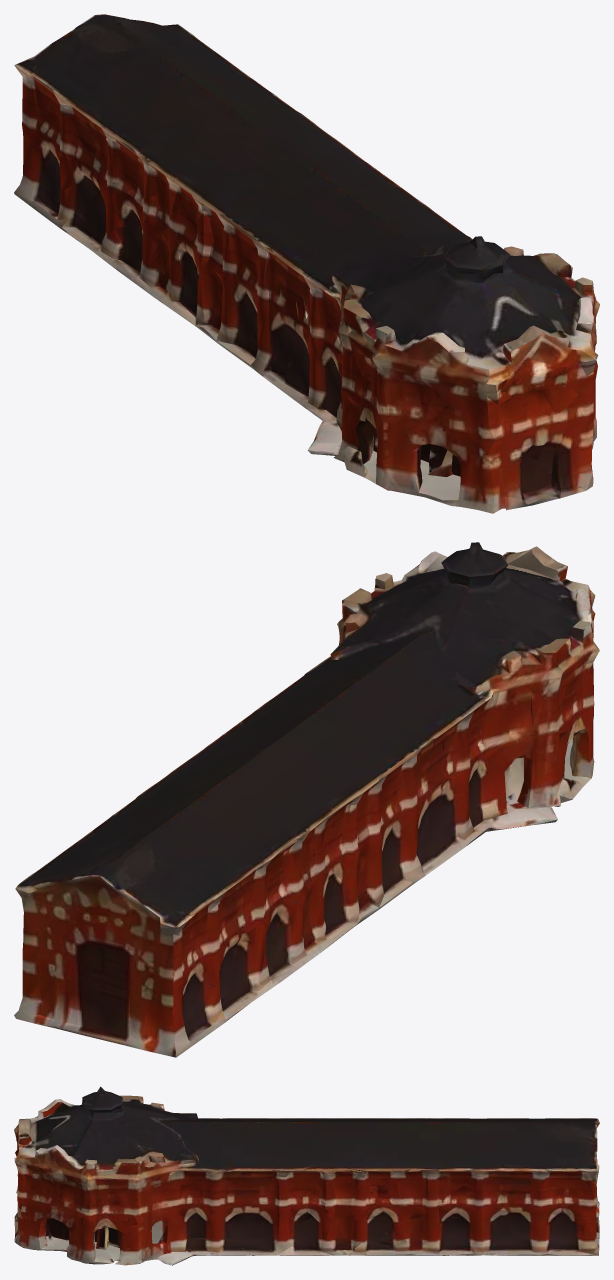
The model's file is red-house-taipei.glb.
3 renders of one model, top to bottom at view 1: azimuth 30°, elevation 25°; view 2: azimuth 150°, elevation 25°; view 3: azimuth 270°, elevation 25°, orthographic. The views are drawn at different scales.
Parts seen in each view (by area): view 1: logan-textured.obj; view 2: logan-textured.obj; view 3: logan-textured.obj.
Boxes of the visible parts, x1=… form: logan-textured.obj: x1=14, y1=14, x2=599, y2=513; logan-textured.obj: x1=14, y1=542, x2=599, y2=1057; logan-textured.obj: x1=14, y1=1086, x2=599, y2=1265.
Size of the model in its own units: 0.3095 by 0.2698 by 1.
1 material, 1 textured.
